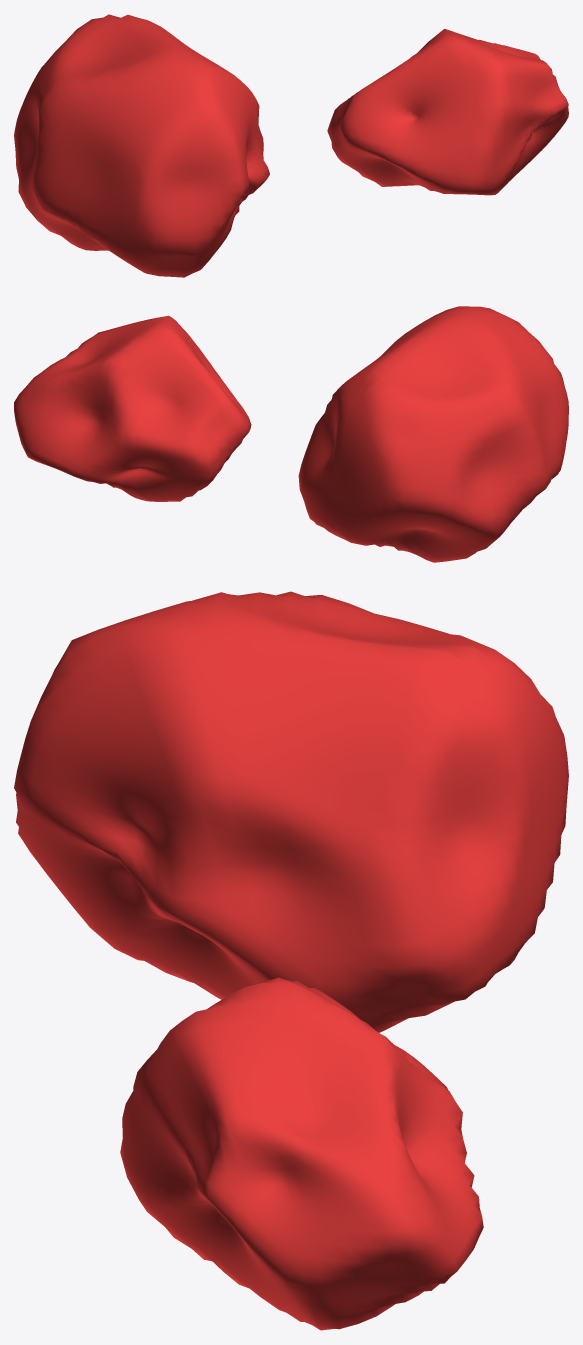
Rendered from Drugs red.fbx.
The picture shows the model from 3 angles, top to bottom: view 1: azimuth 30°, elevation 25°; view 2: azimuth 150°, elevation 25°; view 3: azimuth 270°, elevation 25°; orthographic projection. The views are drawn at different scales.
Parts seen in each view (by area): view 1: Cube, Cube.001; view 2: Cube, Cube.001; view 3: Cube, Cube.001.
Boxes of the visible parts, left/top/right/bottom form: Cube: left=14, top=14, right=269, bottom=277; Cube.001: left=327, top=29, right=568, bottom=195; Cube: left=298, top=306, right=568, bottom=562; Cube.001: left=14, top=315, right=251, bottom=501; Cube: left=14, top=591, right=568, bottom=1032; Cube.001: left=120, top=977, right=483, bottom=1330.
Size of the model in its own units: 329 by 139 by 170.
